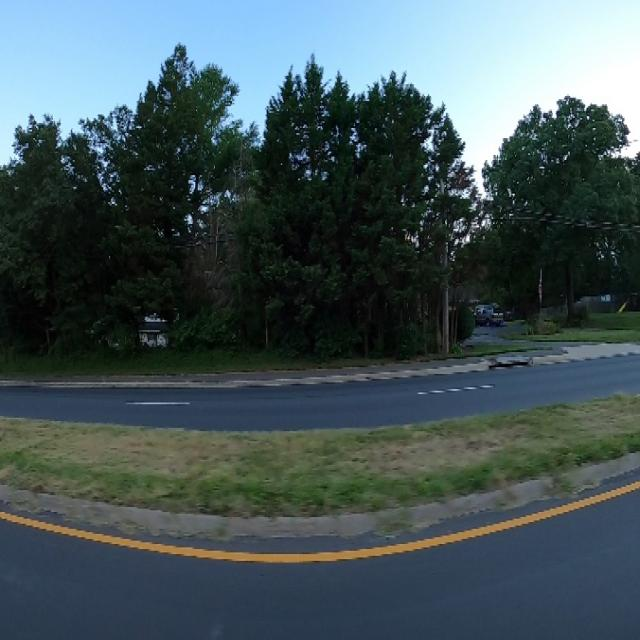cars: (471, 294, 507, 328)
